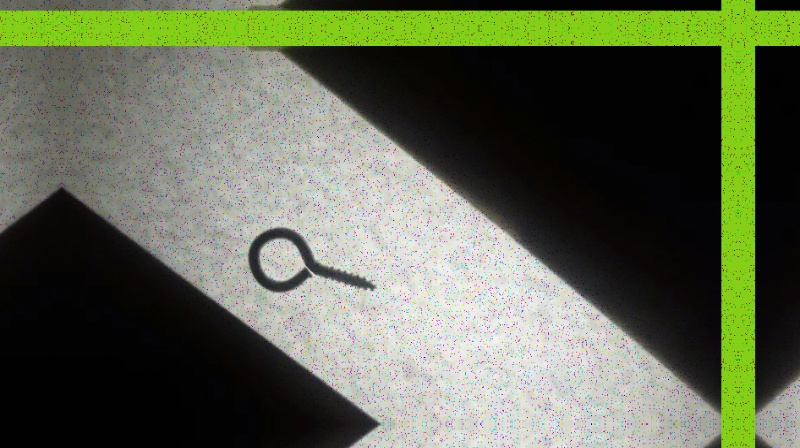O001: (243, 223, 378, 293)
